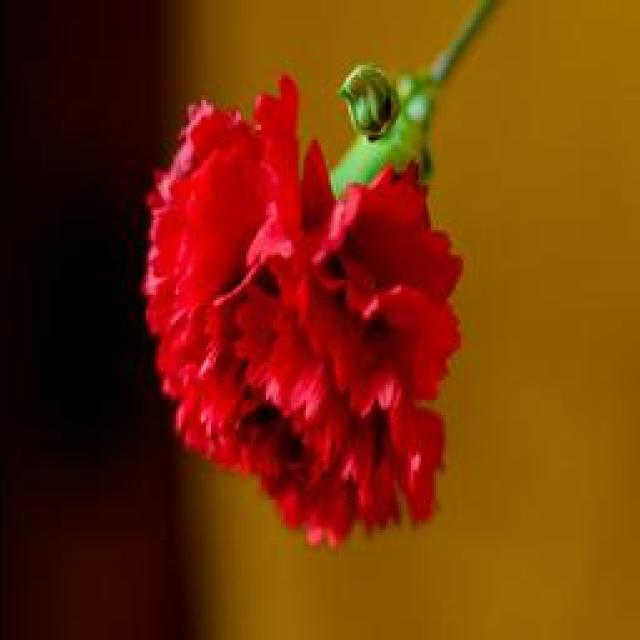carnation: (130, 64, 483, 544)
